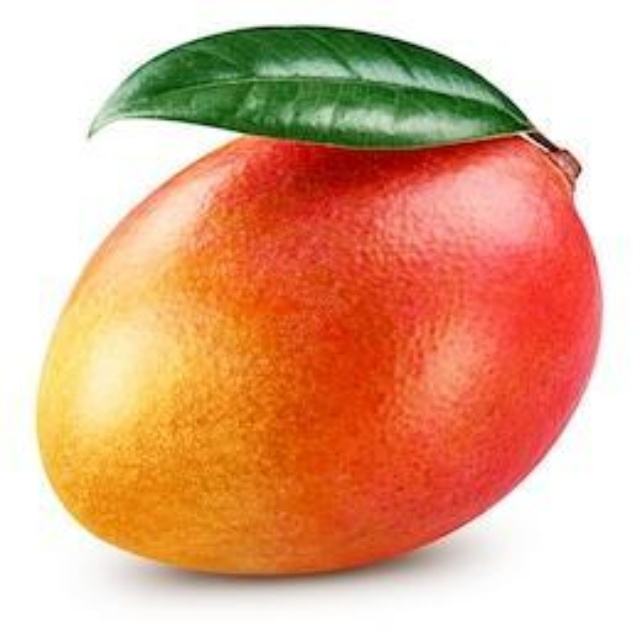mango: (38, 94, 599, 577)
